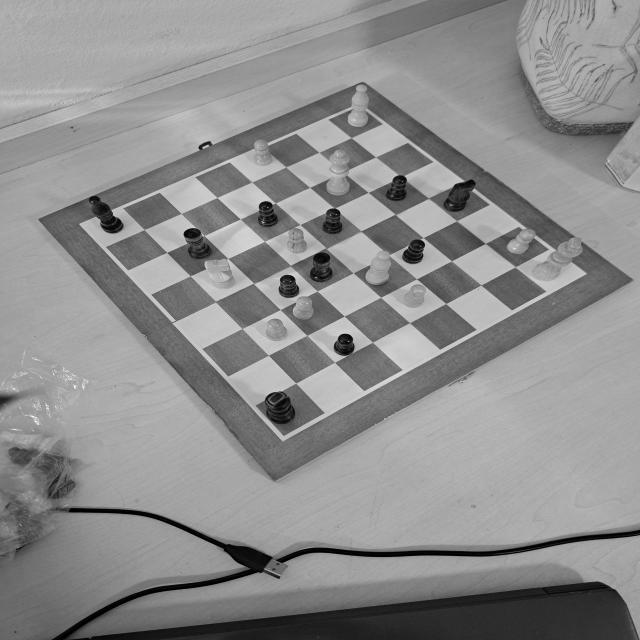chess-table-corners: (342, 100, 378, 116), (270, 428, 298, 444), (570, 266, 592, 280), (77, 220, 91, 229)
